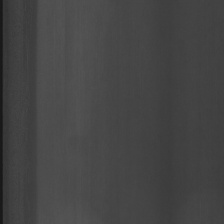silk_spot: (12, 32, 36, 178)
